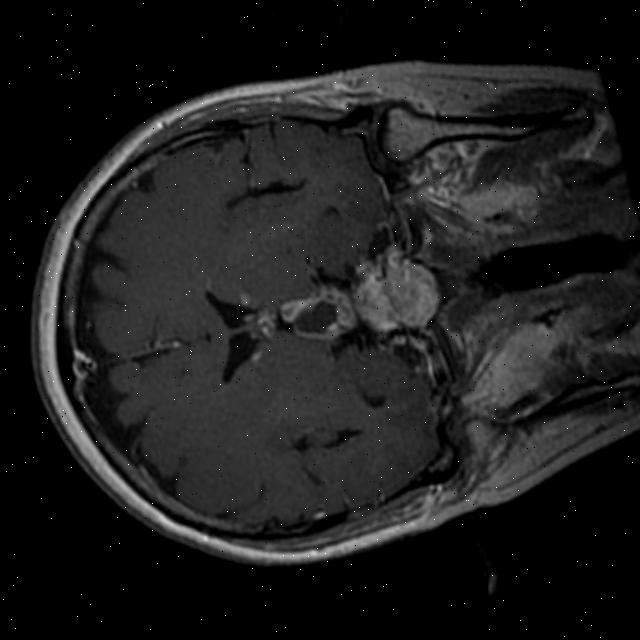Pituitary: (340, 241, 448, 342), (276, 282, 360, 348)
